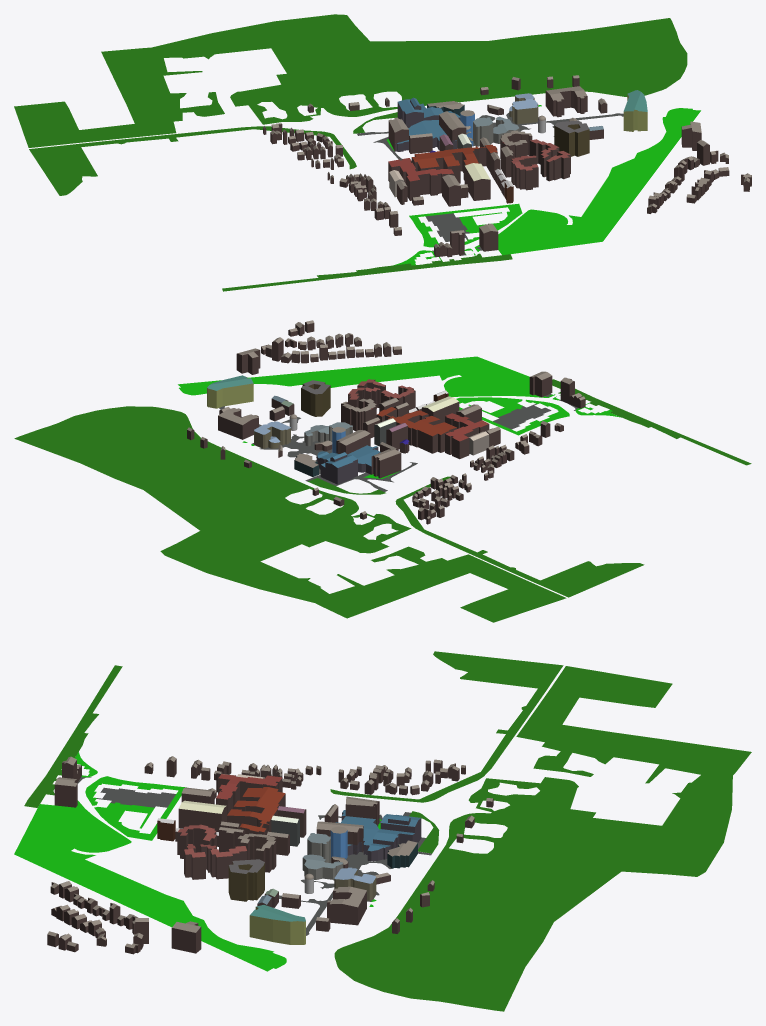
Rendered from bourne-final.glb.
3 views of the same model, one above another, from view 1: azimuth 30°, elevation 25°; view 2: azimuth 150°, elevation 25°; view 3: azimuth 270°, elevation 25° (orthographic). The views are drawn at different scales.
Parts seen in each view (by area): view 1: Talbot Woods, element.154, element.138, The Student Village, element, Poole House, element.177, element.003, element.282, Talbot House, Christchurch House, Poole Gateway Building (+13 smaller); view 2: Talbot Woods, element.154, element.138, element, Poole House, The Student Village, Poole Gateway Building, element.282, element.003, element.177, element.111, Talbot House (+10 smaller); view 3: Talbot Woods, element.154, element.138, The Student Village, Poole House, element.282, element, element.177, Poole Gateway Building, Talbot House, Christchurch House, The Sir Michael Cobham Library (+12 smaller).
Boxes of the visible parts, x1,y1,x2,y2 form: Talbot Woods: [14, 14, 687, 147]; element.154: [474, 108, 700, 254]; element.138: [29, 126, 356, 195]; The Student Village: [500, 134, 570, 189]; element: [411, 144, 497, 183]; Poole House: [395, 97, 460, 151]; element.177: [222, 253, 512, 291]; element.003: [388, 158, 453, 200]; element.282: [409, 203, 522, 247]; Talbot House: [554, 120, 589, 156]; Christchurch House: [545, 86, 587, 117]; Poole Gateway Building: [623, 90, 647, 131]; Talbot Woods: [14, 406, 566, 622]; element.154: [178, 356, 555, 397]; element.138: [395, 476, 644, 597]; element: [376, 407, 457, 453]; Poole House: [316, 445, 380, 484]; The Student Village: [341, 379, 415, 430]; Poole Gateway Building: [207, 375, 253, 408]; element.282: [456, 397, 569, 435]; element.003: [445, 413, 489, 459]; element.177: [552, 379, 751, 465]; element.111: [219, 406, 417, 491]; Talbot House: [301, 380, 330, 416]; Talbot Woods: [334, 666, 751, 1011]; element.154: [14, 800, 286, 971]; element.138: [330, 651, 563, 802]; The Student Village: [177, 824, 276, 879]; Poole House: [335, 810, 421, 861]; element.282: [85, 776, 186, 840]; element: [227, 787, 285, 834]; element.177: [24, 665, 122, 807]; Poole Gateway Building: [249, 905, 305, 944]; Talbot House: [228, 859, 264, 901]; Christchurch House: [327, 886, 366, 925]; The Sir Michael Cobham Library: [302, 833, 343, 879].
Bounding box in the file's own units: 1128 × 40.45 × 976.
